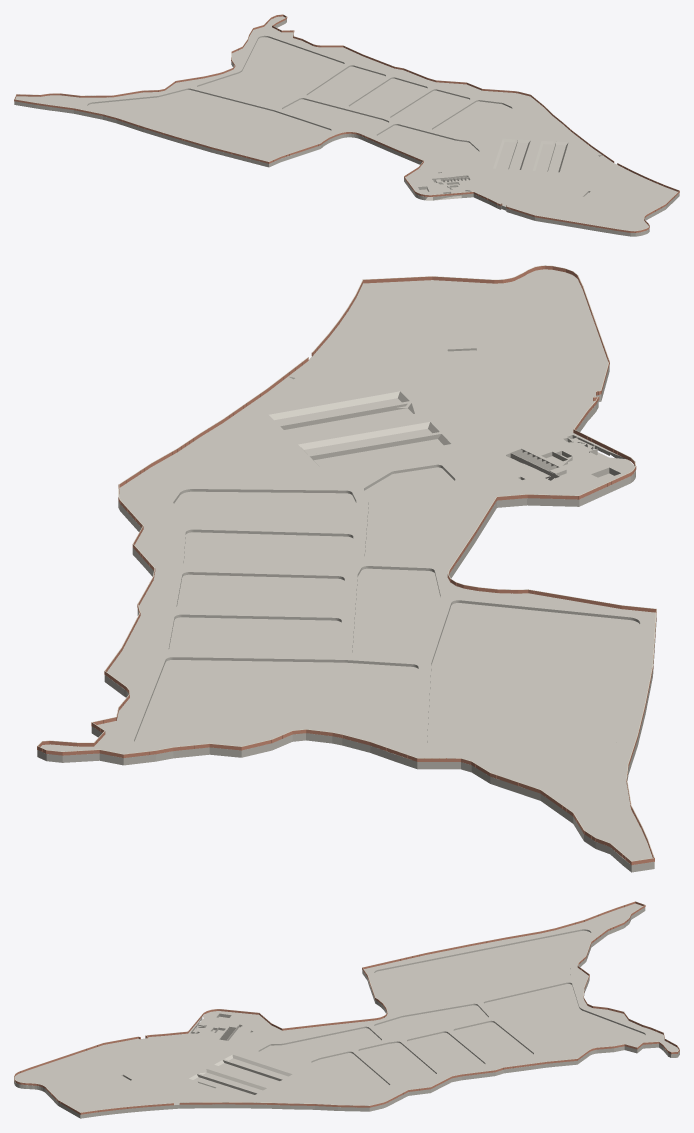
File: Enceinte.glb
The picture shows the model from 3 angles, top to bottom: view 1: azimuth 30°, elevation 25°; view 2: azimuth 150°, elevation 25°; view 3: azimuth 270°, elevation 25°; orthographic projection. The views are drawn at different scales.
Parts seen in each view (by area): view 1: Socle, Mur_enceinte, Mur_enceinte_chaperon; view 2: Socle, Mur_enceinte, Mur_enceinte_chaperon; view 3: Socle, Mur_enceinte, Mur_enceinte_chaperon.
Part boxes in pixels (x1,y1,x2,y2): Socle: (14, 16, 679, 236); Mur_enceinte: (14, 14, 679, 232); Mur_enceinte_chaperon: (14, 14, 679, 231); Socle: (37, 269, 656, 872); Mur_enceinte: (37, 266, 656, 865); Mur_enceinte_chaperon: (37, 265, 656, 861); Socle: (14, 903, 679, 1118); Mur_enceinte: (14, 901, 679, 1114); Mur_enceinte_chaperon: (14, 901, 679, 1112).
Size of the model in its own units: 579 by 7.49 by 771.
Materials: 3 (3 with a texture image).
